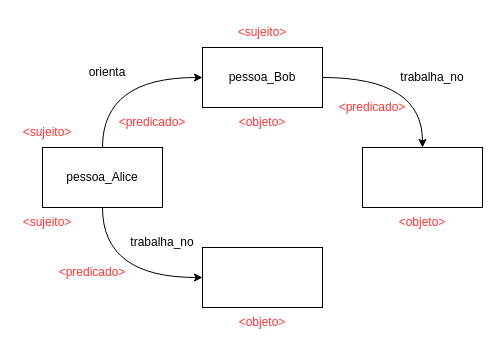
Image size: 500x354. Some labels were removed from this diagram. Each missing label, with the centre of its shape:
"Navio" belongs at pixel 422 177.
"Porto" belongs at pixel 262 277.
